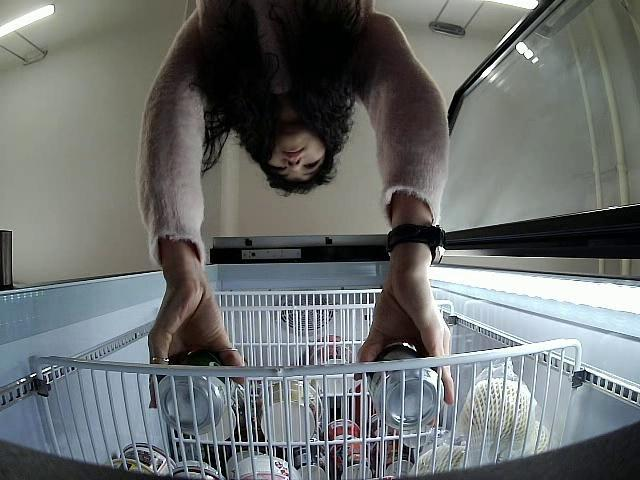12_chilsungCider: (366, 346, 446, 432), (156, 345, 233, 430)
